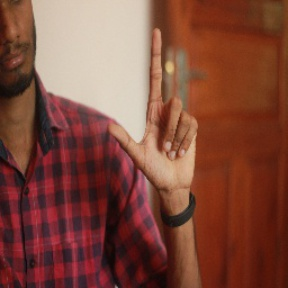L: (107, 30, 203, 186)
